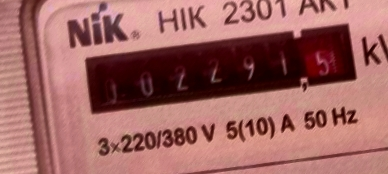0: (98, 72, 121, 104), (136, 67, 156, 98)
1: (273, 44, 292, 80)
2: (170, 61, 191, 93), (205, 54, 223, 85)
5: (312, 45, 332, 77)
9: (239, 51, 259, 83)
screen: (78, 10, 363, 128)
